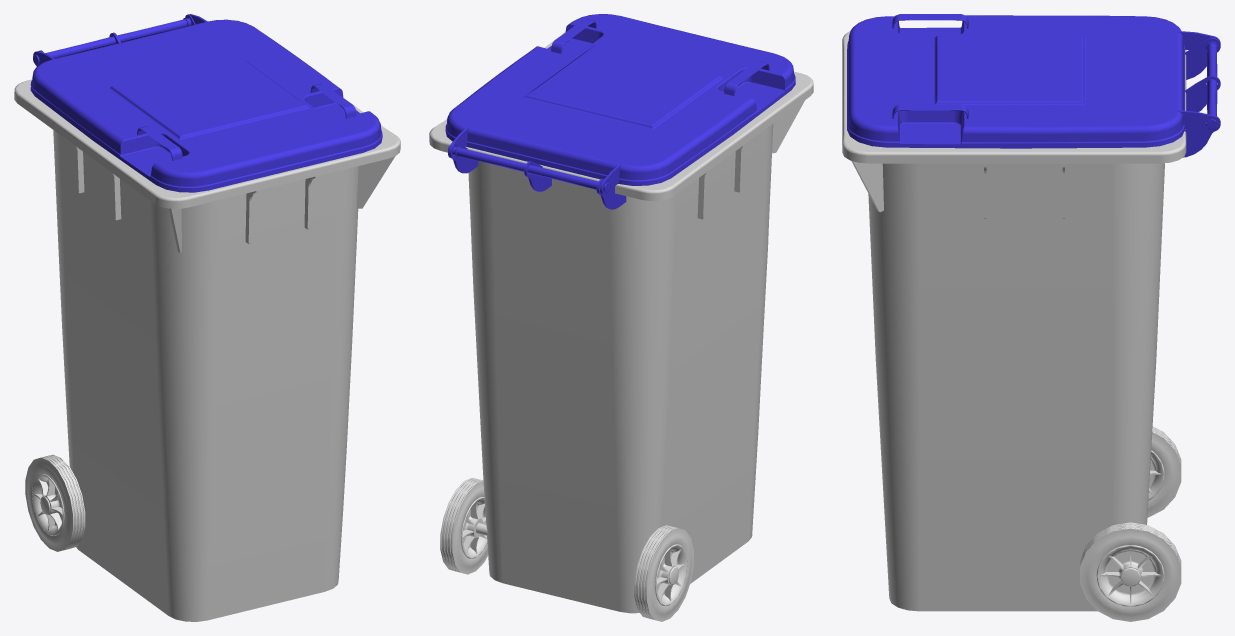
3 renders of one model, left to right at view 1: azimuth 30°, elevation 25°; view 2: azimuth 150°, elevation 25°; view 3: azimuth 270°, elevation 25°, orthographic. The views are drawn at different scales.
Visible parts, largest first — view 1: BODY, LID, Wheel body R, Lid Shaft, Wheel Bearing R, Body Strip 1; view 2: BODY, LID, Wheel body R, Wheel body L, Lid Shaft, Wheel Bearing R, Wheel Bearing, Body Strip 2; view 3: BODY, LID, Wheel body L, Wheel Bearing, Wheel body R, Body Strip 1, Lid Shaft, Lid Hinge R, Lid Hinge M, Lid Hinge L, Wheel Bearing R.
Part boxes in pixels (x1=…): BODY: x1=14, y1=79, x2=400, y2=621; LID: x1=30, y1=14, x2=382, y2=192; Wheel body R: x1=25, y1=454, x2=85, y2=551; Lid Shaft: x1=33, y1=18, x2=191, y2=65; Wheel Bearing R: x1=32, y1=474, x2=64, y2=535; Body Strip 1: x1=357, y1=156, x2=394, y2=208; BODY: x1=429, y1=32, x2=813, y2=613; LID: x1=445, y1=14, x2=795, y2=195; Wheel body R: x1=634, y1=525, x2=693, y2=621; Wheel body L: x1=440, y1=477, x2=488, y2=574; Lid Shaft: x1=448, y1=146, x2=610, y2=193; Wheel Bearing R: x1=655, y1=544, x2=687, y2=606; Wheel Bearing: x1=461, y1=497, x2=487, y2=558; Body Strip 2: x1=772, y1=100, x2=804, y2=153; BODY: x1=842, y1=31, x2=1186, y2=611; LID: x1=847, y1=14, x2=1220, y2=148; Wheel body L: x1=1080, y1=522, x2=1181, y2=621; Wheel Bearing: x1=1096, y1=545, x2=1164, y2=606; Wheel body R: x1=1147, y1=426, x2=1181, y2=517; Body Strip 1: x1=851, y1=161, x2=883, y2=212; Lid Shaft: x1=1206, y1=41, x2=1217, y2=130; Lid Hinge R: x1=1185, y1=37, x2=1220, y2=79; Lid Hinge M: x1=1185, y1=75, x2=1220, y2=111; Lid Hinge L: x1=1183, y1=115, x2=1220, y2=157; Wheel Bearing R: x1=1148, y1=450, x2=1164, y2=500.
Size of the model in its own units: 0.5805 by 1.09 by 0.735.
